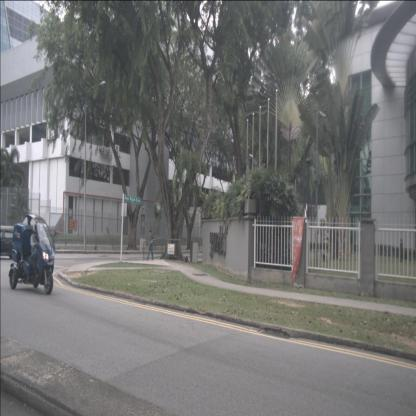human-pedestrian-adult: (147, 230, 154, 260)
vehicle-car: (0, 225, 27, 260)
vehicle-motorcycle: (8, 214, 58, 295)
